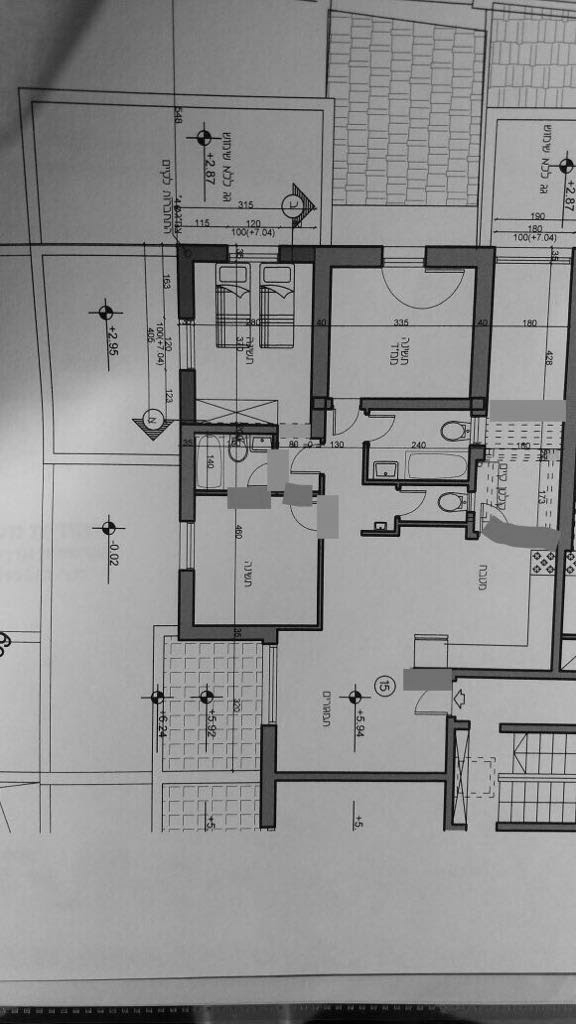door: (323, 387, 366, 443), (391, 483, 436, 525), (361, 407, 400, 444)
wall: (244, 760, 473, 805), (459, 225, 509, 398), (162, 616, 310, 655)
window: (369, 234, 436, 275), (218, 234, 290, 271), (174, 510, 205, 593), (259, 637, 282, 736), (176, 311, 203, 391)
